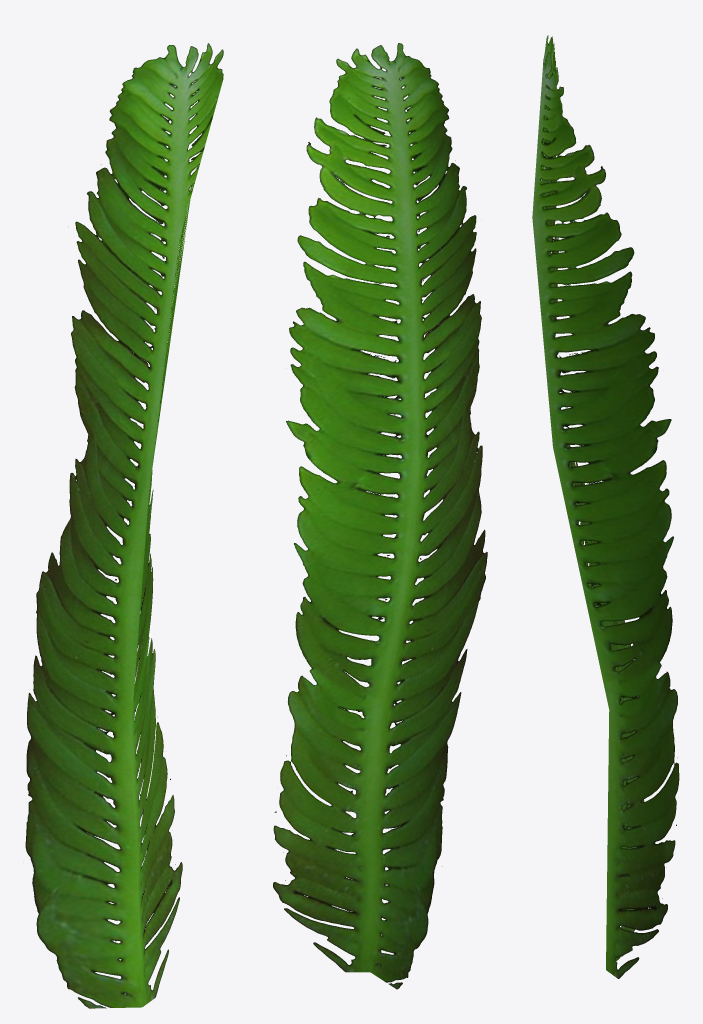
The picture shows the model from 3 angles, left to right: view 1: azimuth 30°, elevation 25°; view 2: azimuth 150°, elevation 25°; view 3: azimuth 270°, elevation 25°; orthographic projection. The views are drawn at different scales.
Parts seen in each view (by area): view 1: Caulerpa_Taxifolia.002; view 2: Caulerpa_Taxifolia.002; view 3: Caulerpa_Taxifolia.002.
Part boxes in pixels (<box>): Caulerpa_Taxifolia.002: <box>25,43,223,1008</box>; Caulerpa_Taxifolia.002: <box>273,43,487,989</box>; Caulerpa_Taxifolia.002: <box>532,35,679,978</box>.
Size of the model in its own units: 0.0289 by 0.1338 by 0.0197.
Materials: 1 (1 with a texture image).
